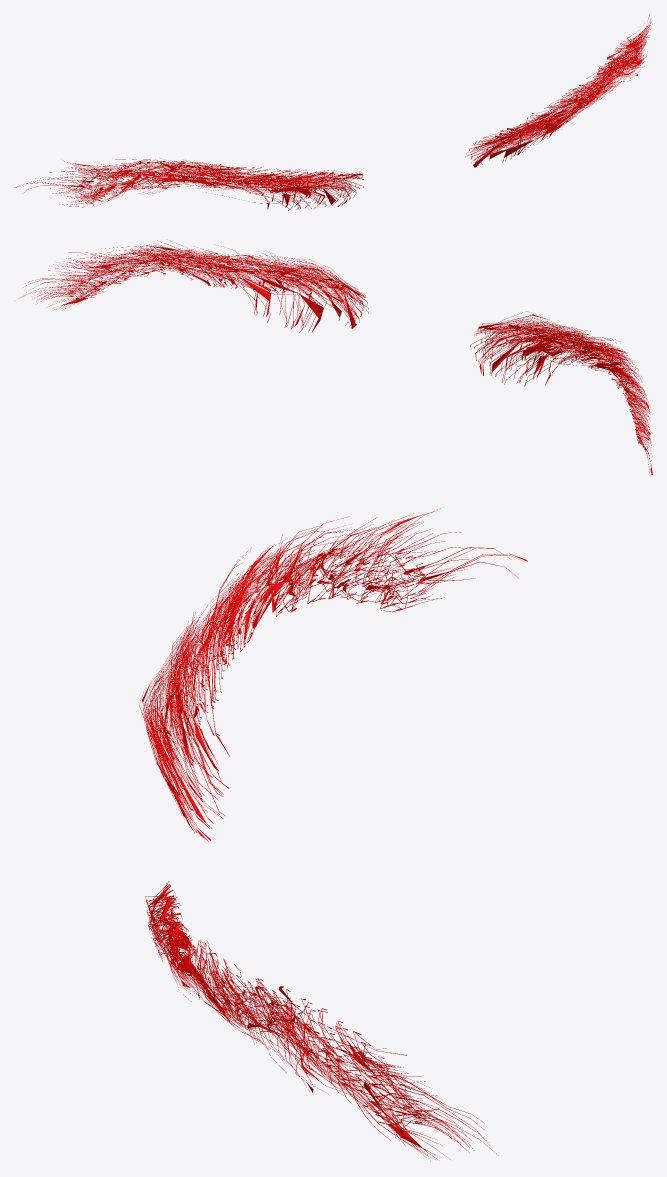
Rendered from mindfront_eyebrows_08_F.glb.
The picture shows the model from 3 angles, top to bottom: view 1: azimuth 30°, elevation 25°; view 2: azimuth 150°, elevation 25°; view 3: azimuth 270°, elevation 25°; orthographic projection. The views are drawn at different scales.
Size of the model in its own units: 0.1299 by 0.0149 by 0.0346.
Materials: 1 (1 with a texture image).
